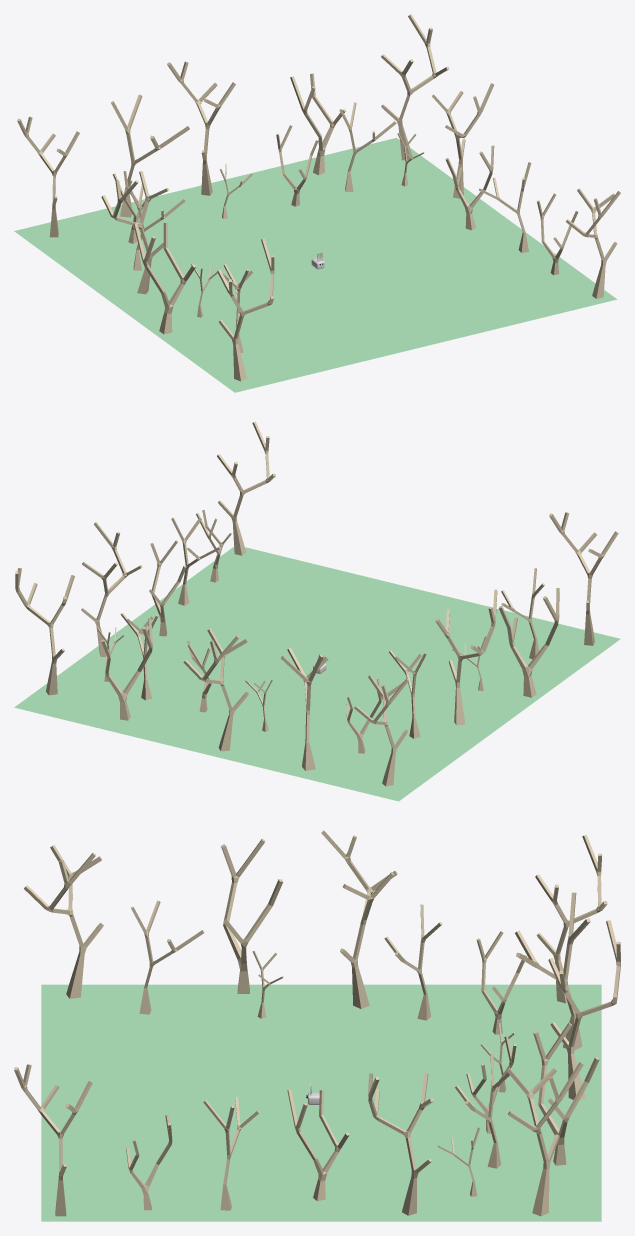
File: cozy.glb
3 renders of one model, top to bottom at view 1: azimuth 30°, elevation 25°; view 2: azimuth 150°, elevation 25°; view 3: azimuth 270°, elevation 25°, orthographic. The views are drawn at different scales.
Parts seen in each view (by area): view 1: grass, tree; view 2: grass, tree; view 3: grass, tree.
Part boxes in pixels (<box>): grass: <box>14,138,617,392</box>; tree: <box>17,14,620,381</box>; grass: <box>14,546,620,801</box>; tree: <box>15,421,618,786</box>; grass: <box>41,984,601,1221</box>; tree: <box>14,830,620,1216</box>.
Size of the model in its own units: 8.65 by 2.56 by 8.66.
